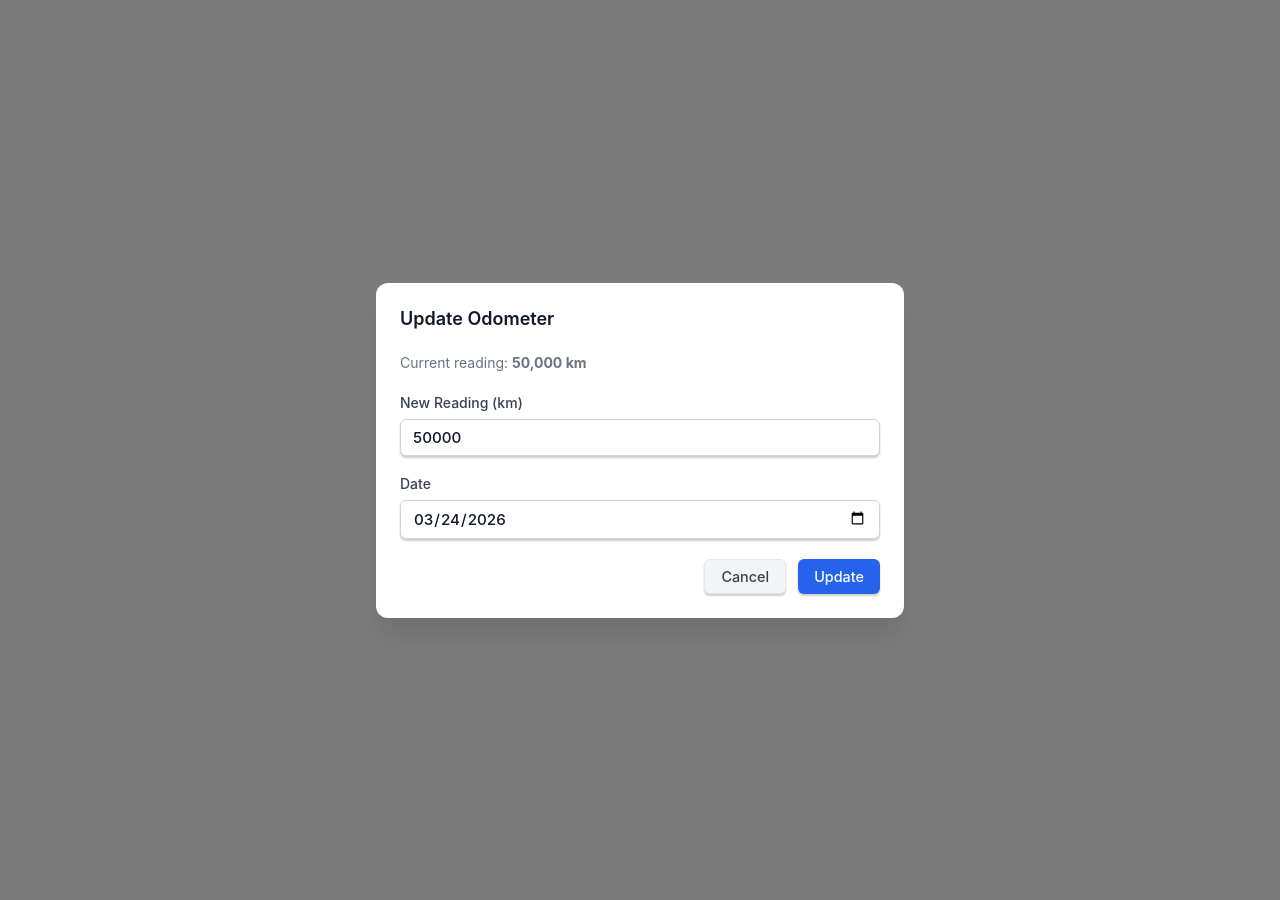
it: UpdateOdometer › dismisses warning when Cancel in warning is clicked
The image size is (1280, 900).
Replace the text in the number field with test id "input-reading" with "65000" at (640, 437), box left=400, top=418, right=880, bottom=456
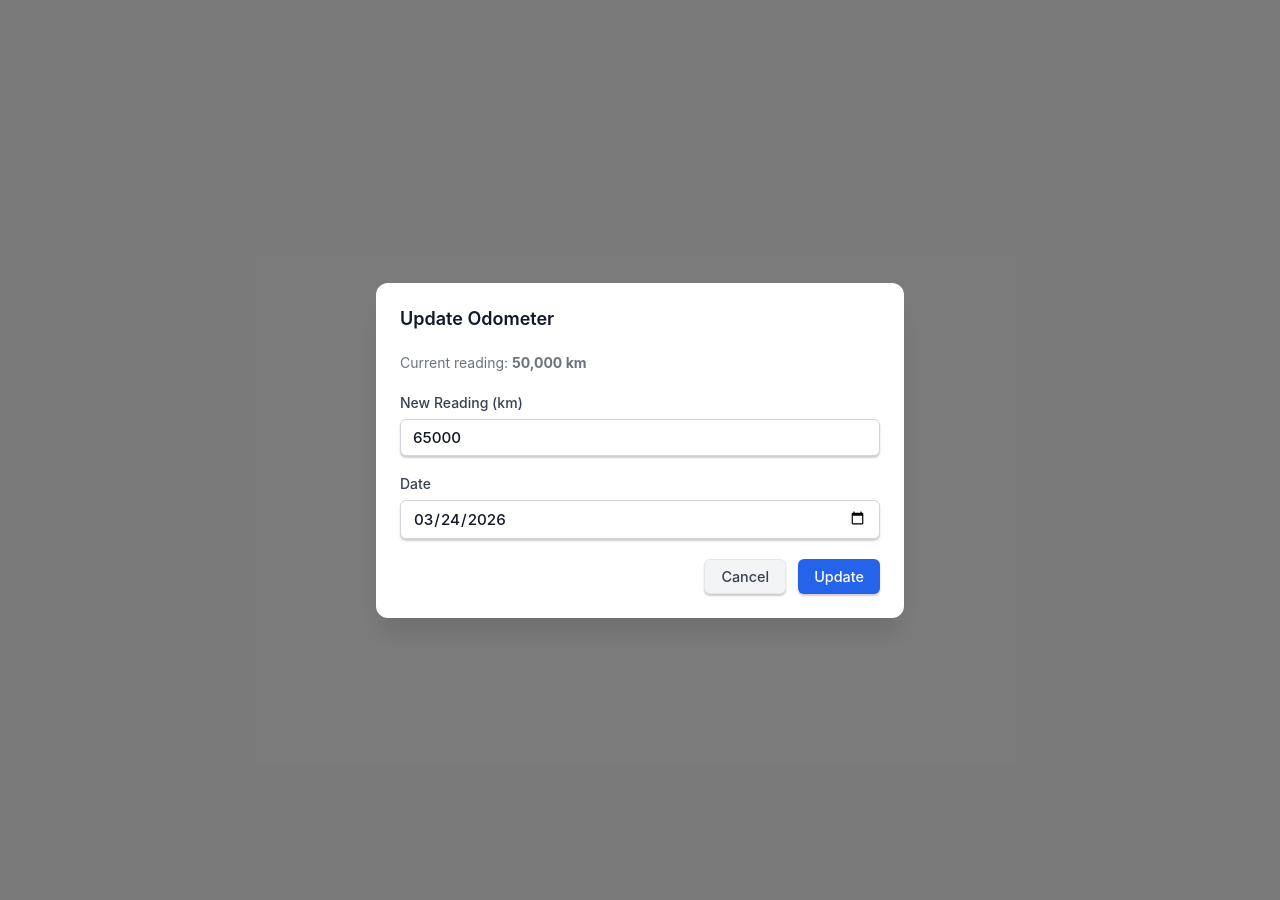
Click the button with test id "btn-submit".
click(839, 576)  # box left=798, top=558, right=880, bottom=594
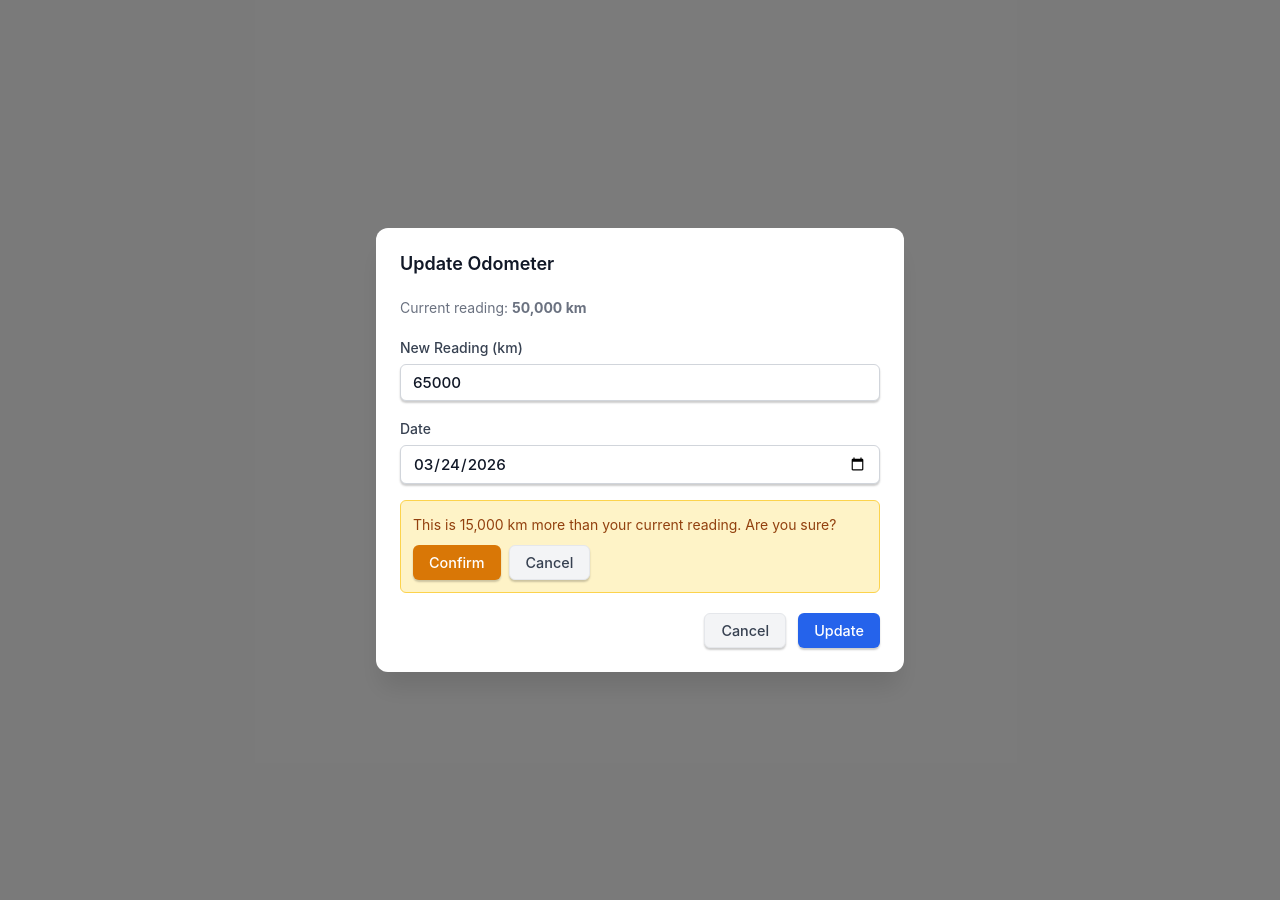
Now the element with test id "large-jump-warning" is shown, box left=400, top=500, right=880, bottom=593
Click the button with test id "btn-cancel-warning".
click(550, 562)  # box left=509, top=545, right=590, bottom=580
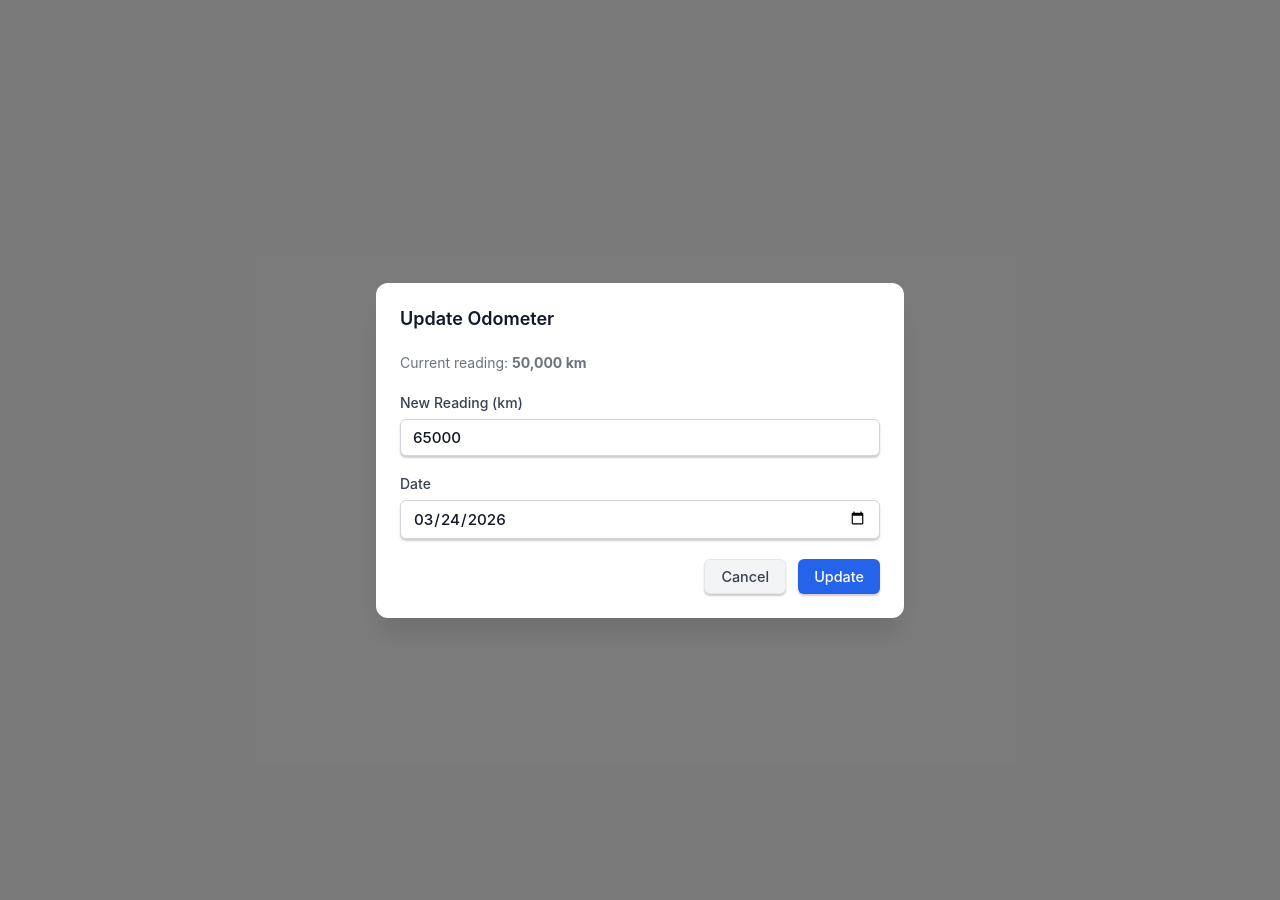
Now the element with test id "large-jump-warning" is gone
